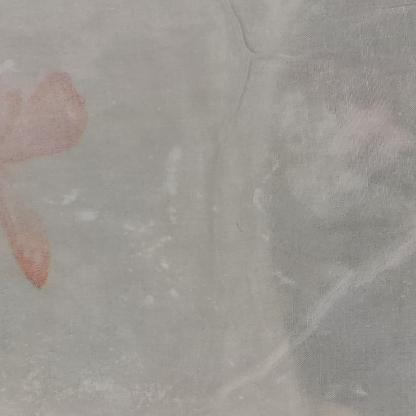spot: (157, 146, 194, 200), (337, 124, 392, 160), (58, 193, 102, 222), (144, 245, 171, 272), (246, 190, 273, 216)
